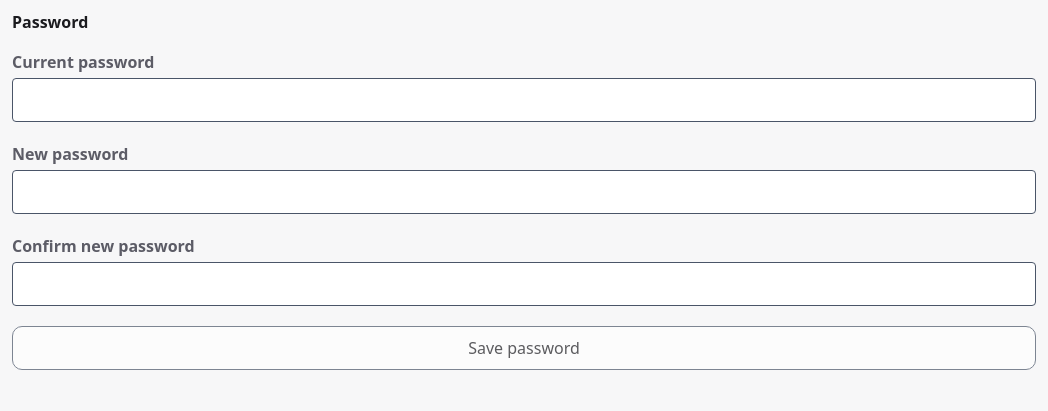
Test case: AccountPasswordForm — an account with a password › asks a lapsed session to sign in again
The image size is (1048, 411).
Type "OldPassw0rd" into the password field labelled "Current password" at (524, 100), box [12,78,1036,122]
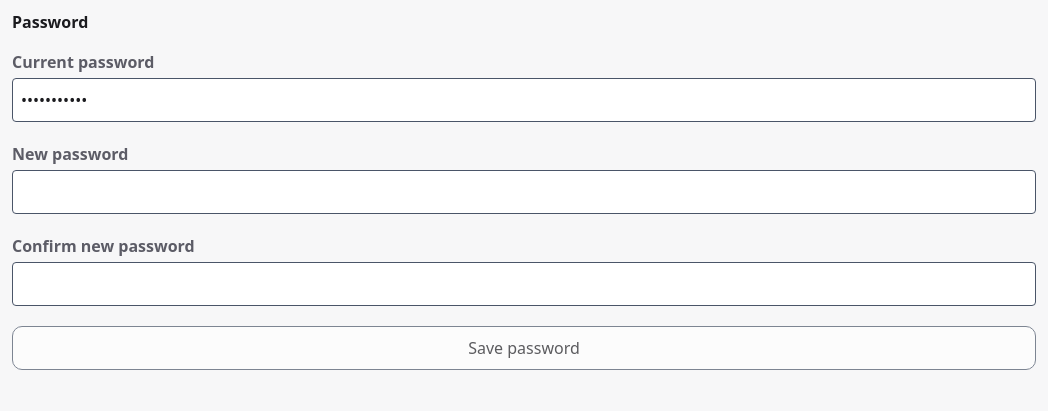
Type "NewPassw0rd" into the password field labelled "New password" at (524, 192), box [12,170,1036,214]
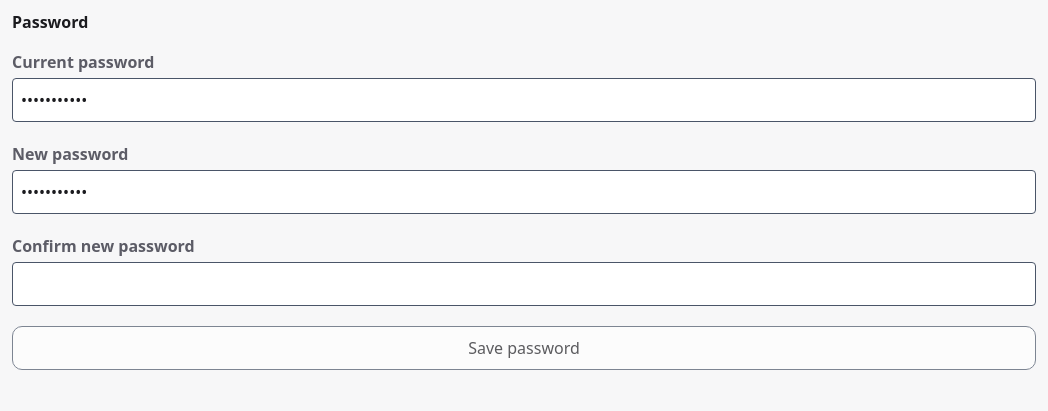
Type "NewPassw0rd" into the password field labelled "Confirm new password" at (524, 284), box [12,262,1036,306]
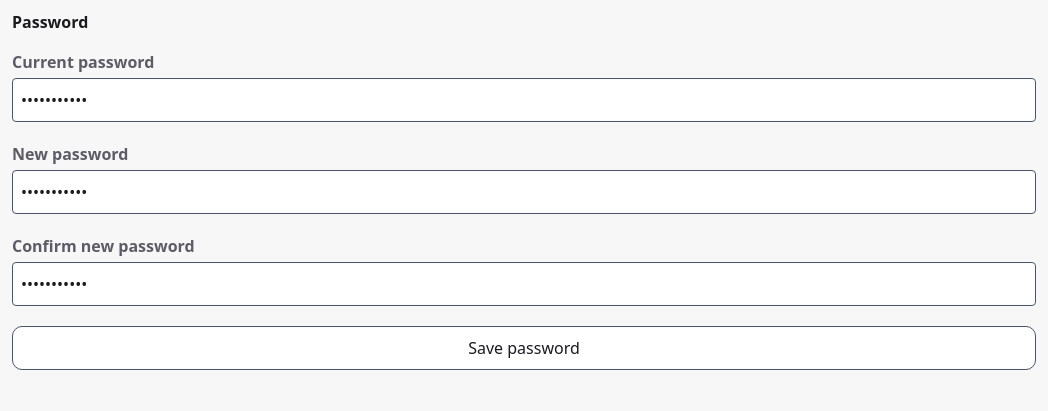
Click the button "Save password" at (524, 348), box [12,326,1036,370]
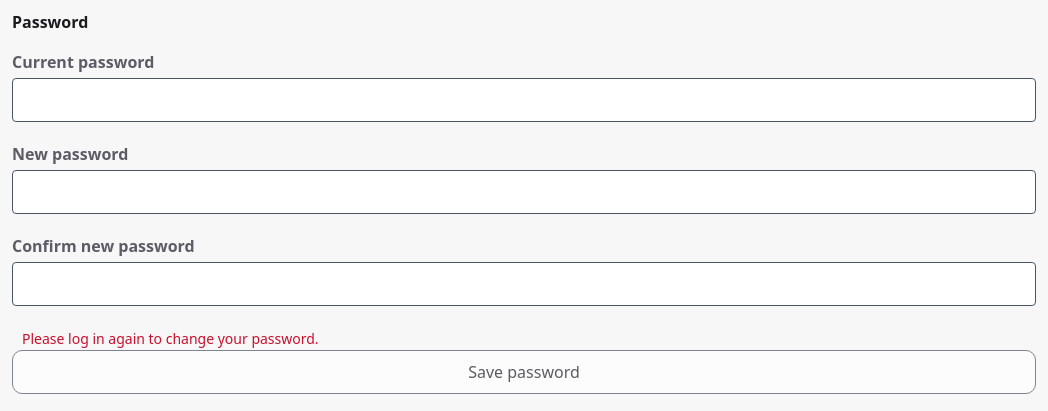
Expected: the text "Please log in again to change your password." is shown, [12,329,319,348]
